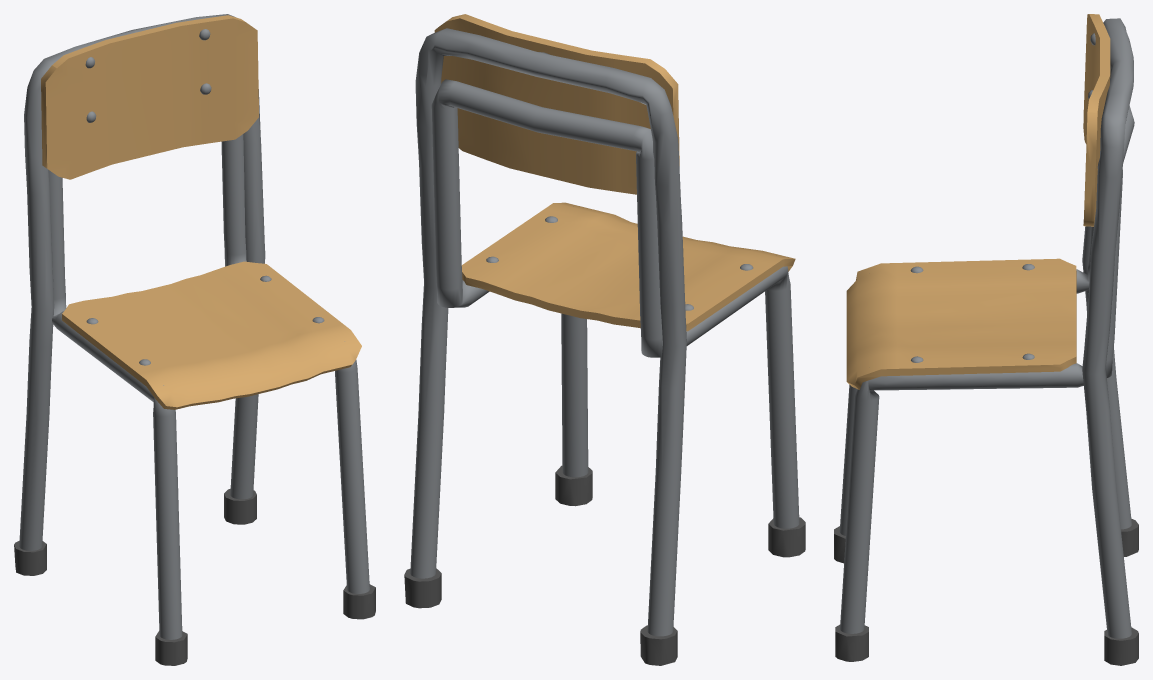
File: chair.fbx
The picture shows the model from 3 angles, left to right: view 1: azimuth 30°, elevation 25°; view 2: azimuth 150°, elevation 25°; view 3: azimuth 270°, elevation 25°; orthographic projection. The views are drawn at different scales.
Parts seen in each view (by area): view 1: group8; view 2: group8; view 3: group8.
Part boxes in pixels (x1,y1,x2,y2): group8: [14, 14, 375, 665]; group8: [404, 14, 805, 665]; group8: [834, 14, 1138, 665].
Bounding box in the file's own units: 0.3944 × 0.8146 × 0.411.
